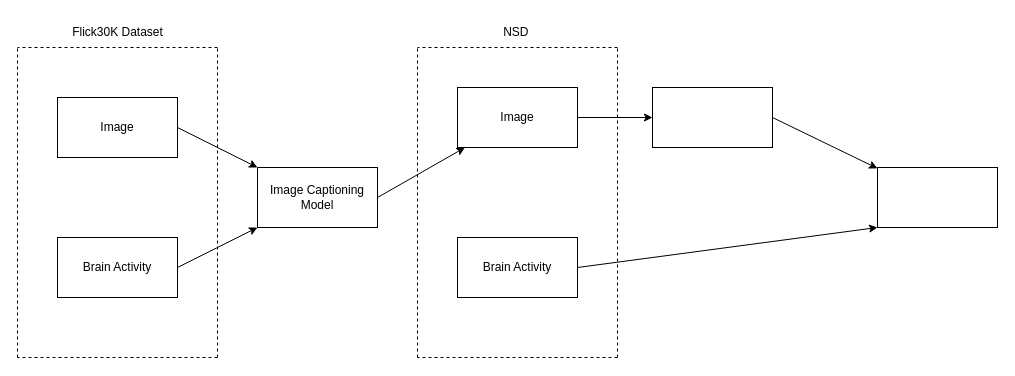
The diagram is 1015 pixels wide and 376 high, and some of its shapes have lost their labels. The centre of each missing label's shape, as x and y in pixels:
"Brain Activity Captioning Model" belongs at point 937,197.
"Generate Caption" belongs at point 712,117.
